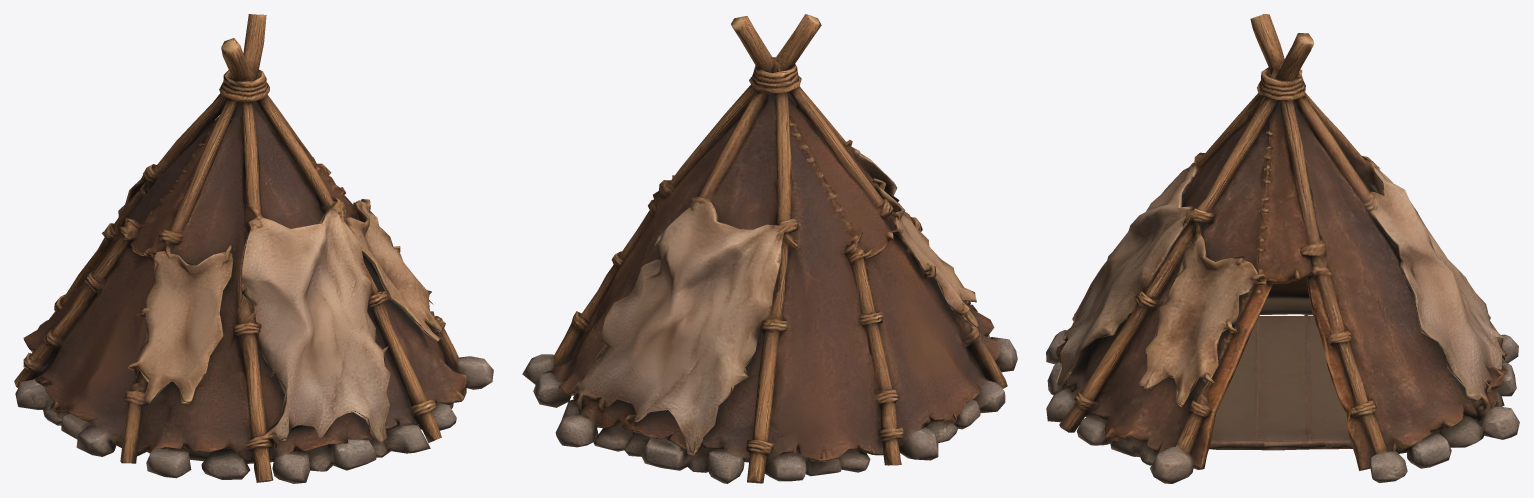
File: avci-sv1.glb
3 renders of one model, left to right at view 1: azimuth 30°, elevation 25°; view 2: azimuth 150°, elevation 25°; view 3: azimuth 270°, elevation 25°, orthographic. The views are drawn at different scales.
Parts seen in each view (by area): view 1: tripo_node_46469bf4-26d2-493a-8084-69b7c9da2299; view 2: tripo_node_46469bf4-26d2-493a-8084-69b7c9da2299; view 3: tripo_node_46469bf4-26d2-493a-8084-69b7c9da2299.
Boxes of the visible parts, x1,y1,x2,y2 form: tripo_node_46469bf4-26d2-493a-8084-69b7c9da2299: [14, 14, 493, 483]; tripo_node_46469bf4-26d2-493a-8084-69b7c9da2299: [522, 14, 1017, 483]; tripo_node_46469bf4-26d2-493a-8084-69b7c9da2299: [1046, 14, 1519, 483].
Bounding box in the file's own units: 0.9604 × 0.862 × 1.
Materials: 1 (1 with a texture image).
